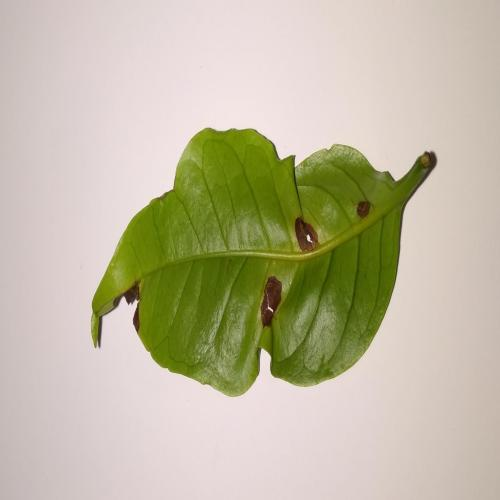leaf: (83, 114, 443, 400)
phoma: (107, 280, 149, 335), (256, 275, 287, 329), (296, 213, 321, 261), (355, 197, 372, 223)
